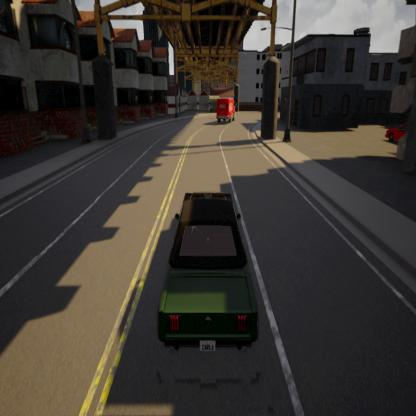Cars: (150, 182, 268, 364), (210, 87, 239, 127)
